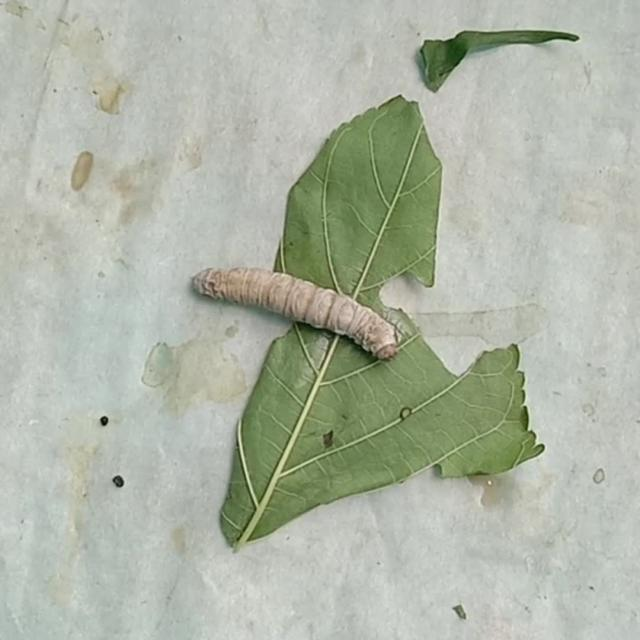Grasserie: (182, 251, 412, 375)
